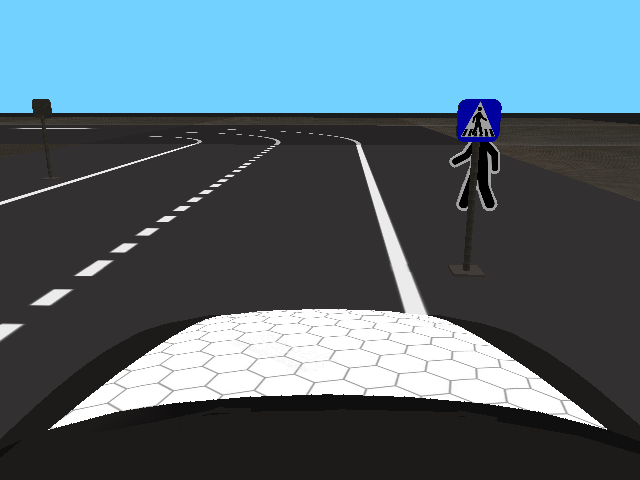pedestrian_cross: (455, 99, 502, 142)
